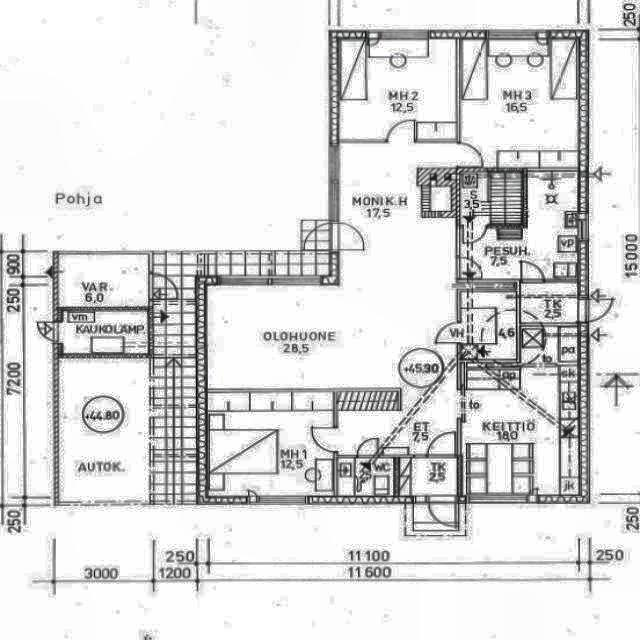room: (461, 326, 579, 496), (460, 39, 579, 168), (207, 392, 333, 496), (338, 38, 457, 142), (59, 254, 149, 307), (59, 310, 148, 355), (460, 291, 517, 360), (337, 458, 395, 496), (399, 458, 457, 496)
